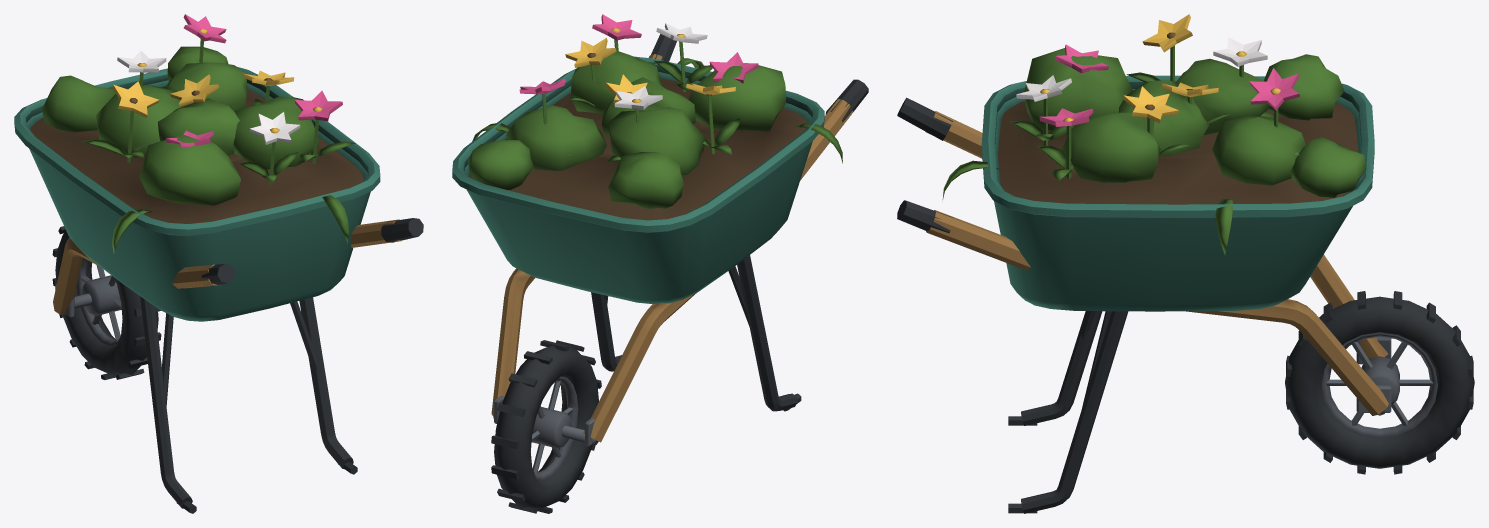
The model's file is wheelbarrow.glb.
The picture shows the model from 3 angles, left to right: view 1: azimuth 30°, elevation 25°; view 2: azimuth 150°, elevation 25°; view 3: azimuth 270°, elevation 25°; orthographic projection. The views are drawn at different scales.
Parts seen in each view (by area): view 1: wheelbarrow; view 2: wheelbarrow; view 3: wheelbarrow.
Boxes of the visible parts, bbox=[...] form: wheelbarrow: bbox=[14, 14, 423, 513]; wheelbarrow: bbox=[452, 14, 868, 513]; wheelbarrow: bbox=[897, 14, 1474, 513].
Size of the model in its own units: 0.6373 by 0.8021 by 1.
